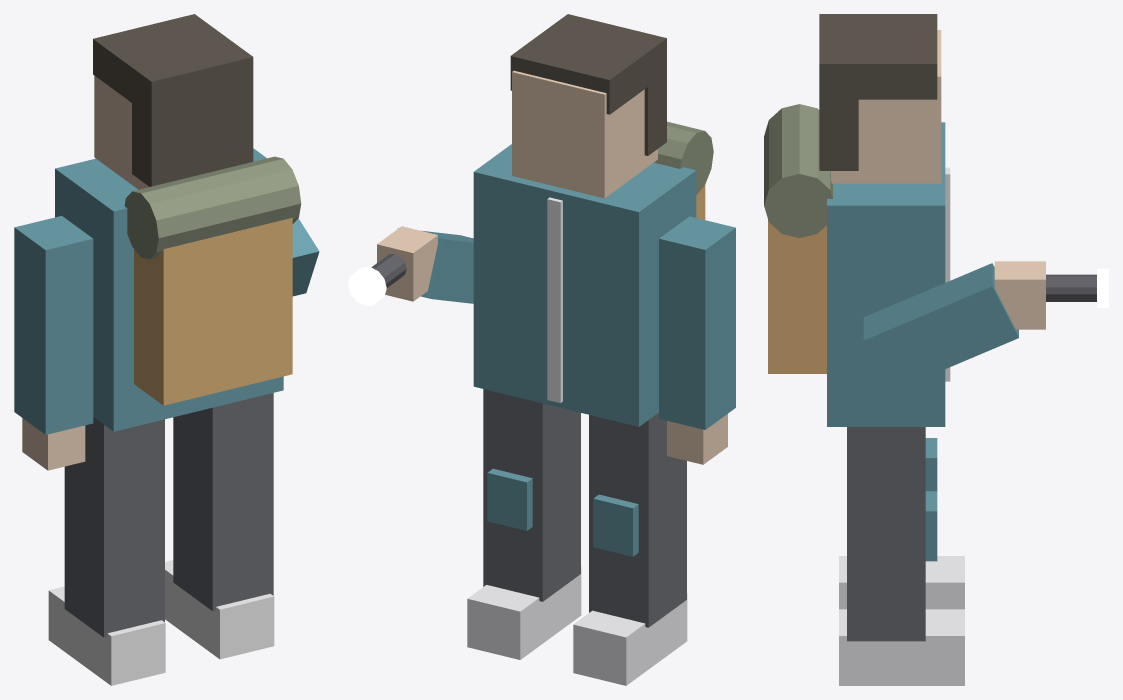
Rendered from bot_jax.glb.
3 views of the same model, side by side, from view 1: azimuth 30°, elevation 25°; view 2: azimuth 150°, elevation 25°; view 3: azimuth 270°, elevation 25° (orthographic). The views are drawn at different scales.
Parts seen in each view (by area): view 1: Bot_Jax; view 2: Bot_Jax; view 3: Bot_Jax.
Part boxes in pixels (left/top/right/bottom): Bot_Jax: left=14, top=14, right=319, bottom=685; Bot_Jax: left=348, top=14, right=735, bottom=685; Bot_Jax: left=764, top=14, right=1108, bottom=685.
Size of the model in its own units: 0.82 by 1.7 by 0.875.
